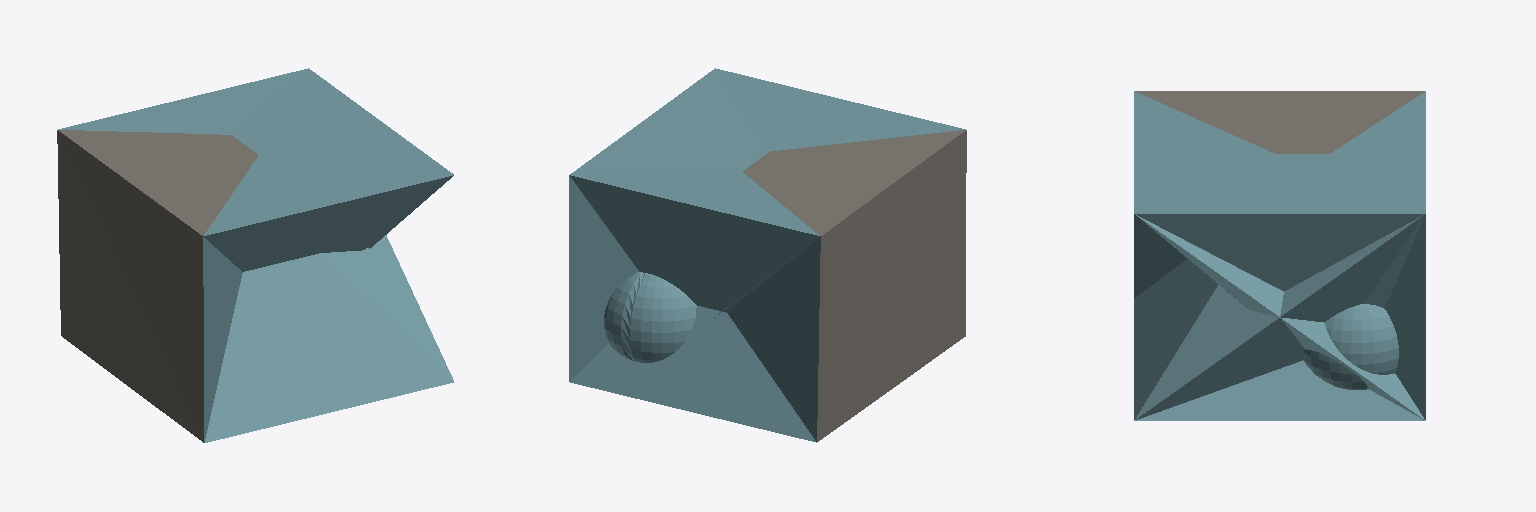
File: CornellBox-Glossy-Floor.obj
The picture shows the model from 3 angles: view 1: azimuth 30°, elevation 25°; view 2: azimuth 150°, elevation 25°; view 3: azimuth 270°, elevation 25°; orthographic projection.
Visible parts, largest first — view 1: sphere, shortBox; view 2: sphere, shortBox; view 3: sphere, shortBox.
Boxes of the visible parts, <box> form: sphere: <box>58,68,453,442</box>; shortBox: <box>57,130,258,442</box>; sphere: <box>569,68,965,442</box>; shortBox: <box>743,130,966,441</box>; sphere: <box>1134,91,1425,420</box>; shortBox: <box>1135,91,1424,153</box>.
Size of the model in its own units: 2.02 by 1.59 by 2.03.